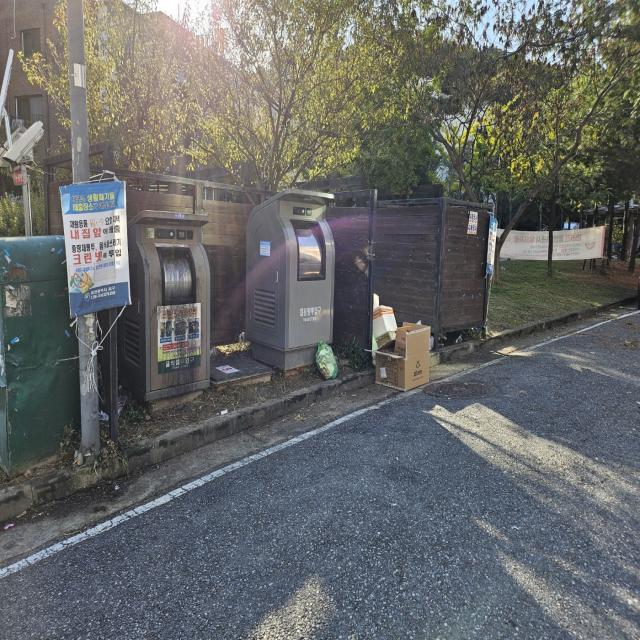CleanNet: (115, 198, 221, 416), (240, 180, 346, 383)
General Waste: (366, 289, 442, 401)
